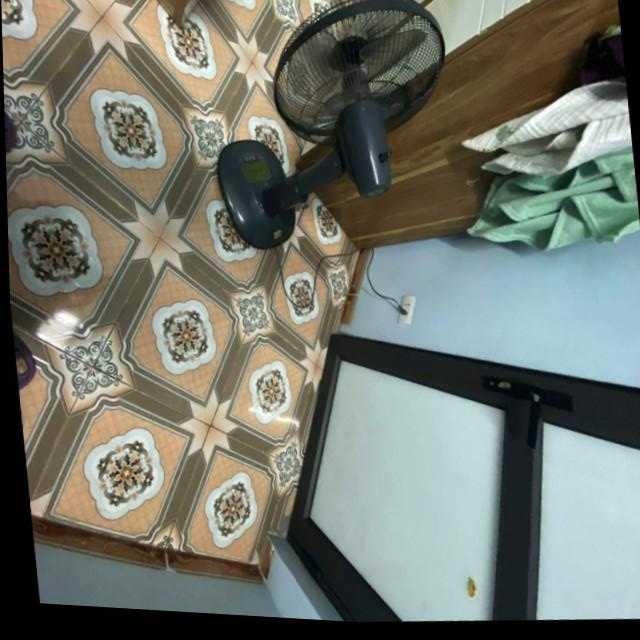outlet: (395, 293, 420, 325)
